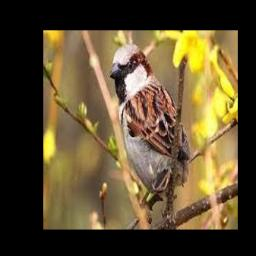Sparrow: (109, 44, 190, 208)
